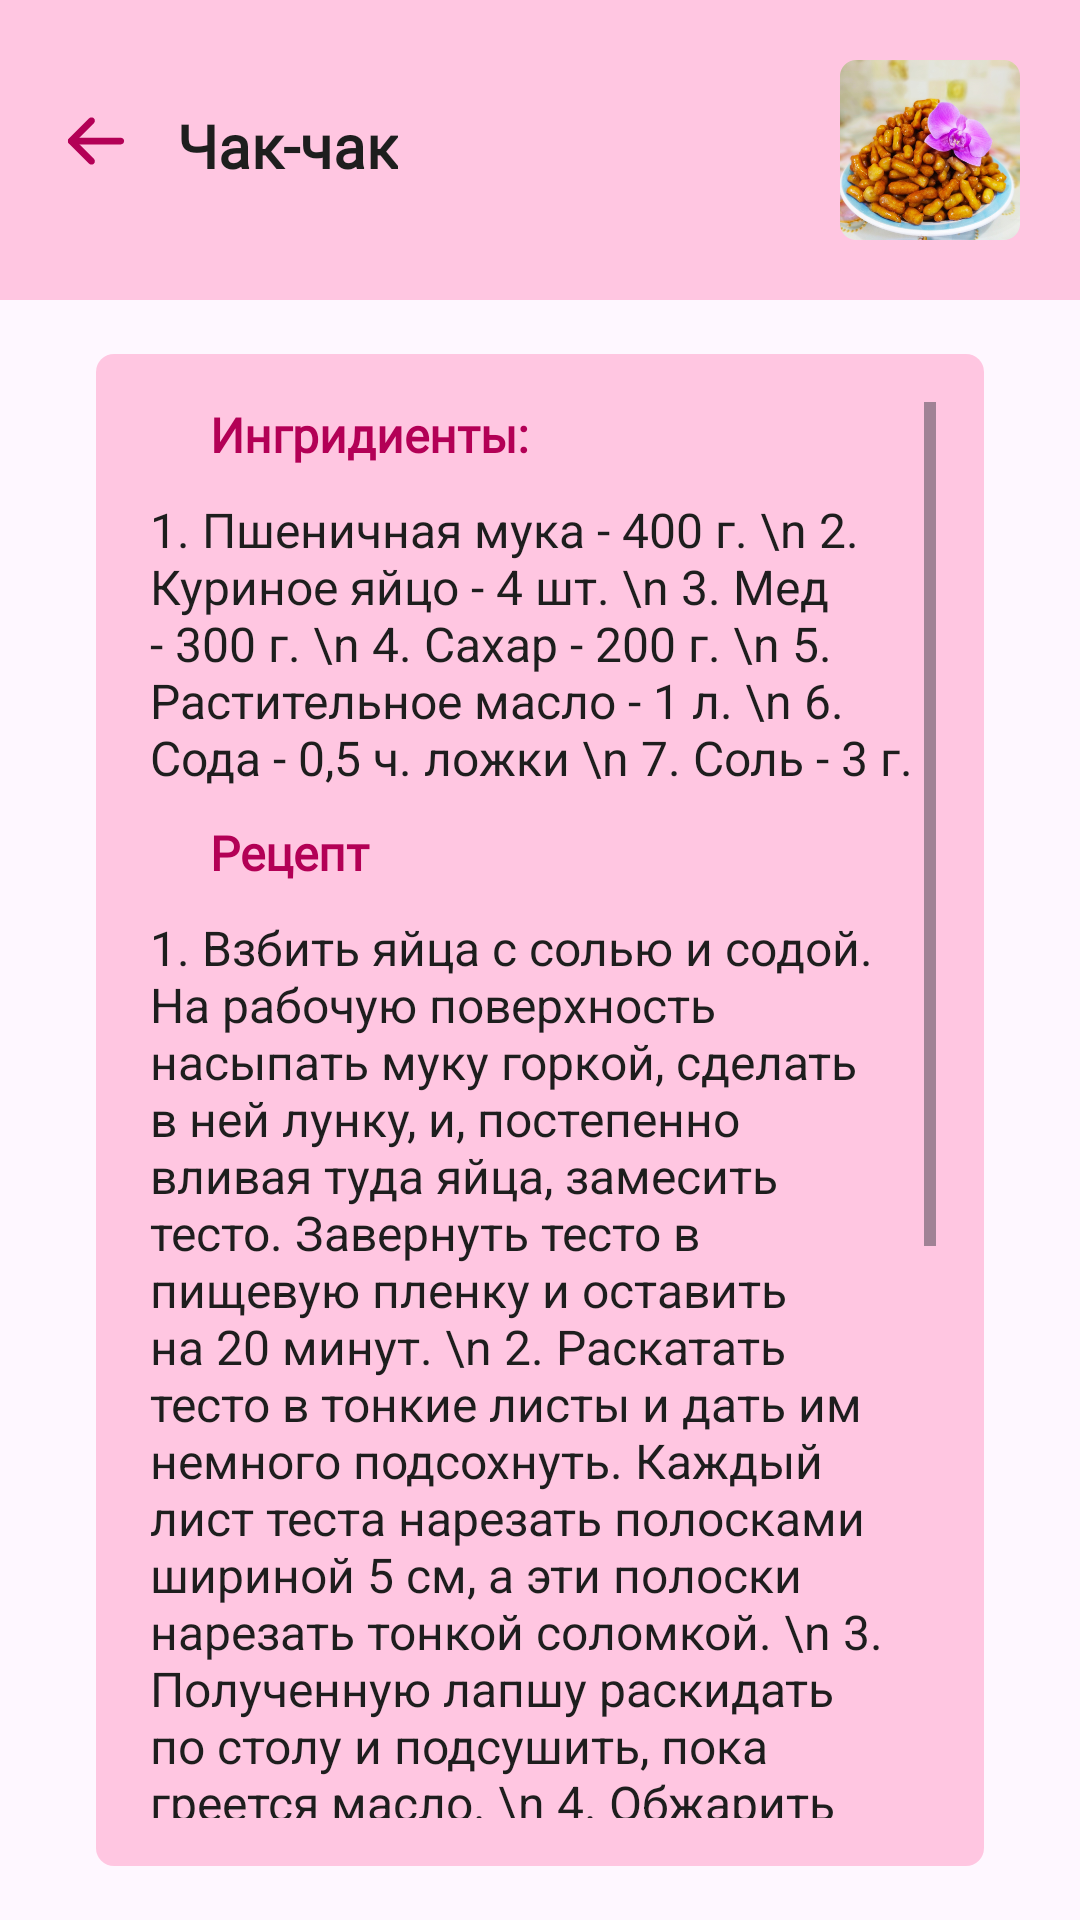

Screen size 1080 × 1920. Icon name, then its box in pixels as {"left": x1, "top": y1, "right": x2, "bottom": y2}:
second back: {"left": 68, "top": 117, "right": 124, "bottom": 165}
